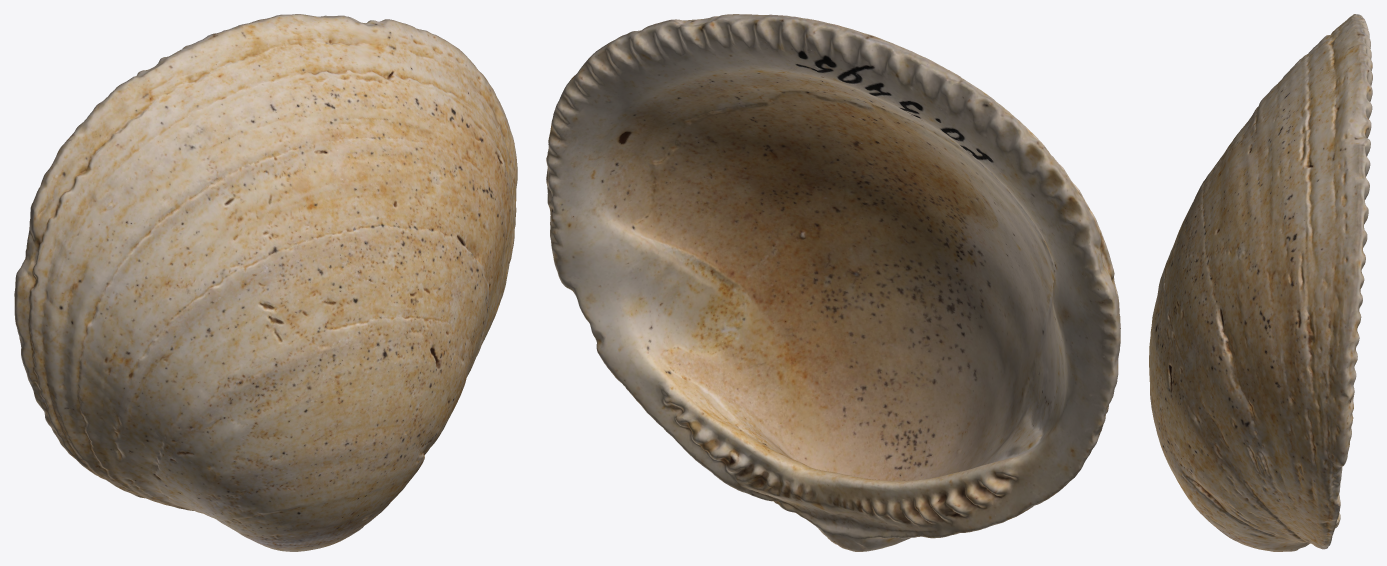
Rendered from EWS0014034.glb.
3 renders of one model, left to right at view 1: azimuth 30°, elevation 25°; view 2: azimuth 150°, elevation 25°; view 3: azimuth 270°, elevation 25°, orthographic. The views are drawn at different scales.
Parts seen in each view (by area): view 1: model; view 2: model; view 3: model.
Boxes of the visible parts, left/top/right/bottom form: model: left=14, top=14, right=517, bottom=551; model: left=546, top=14, right=1120, bottom=551; model: left=1149, top=14, right=1372, bottom=551.
Bounding box in the file's own units: 0.0416 × 0.0389 × 0.016.
Materials: 1 (1 with a texture image).
